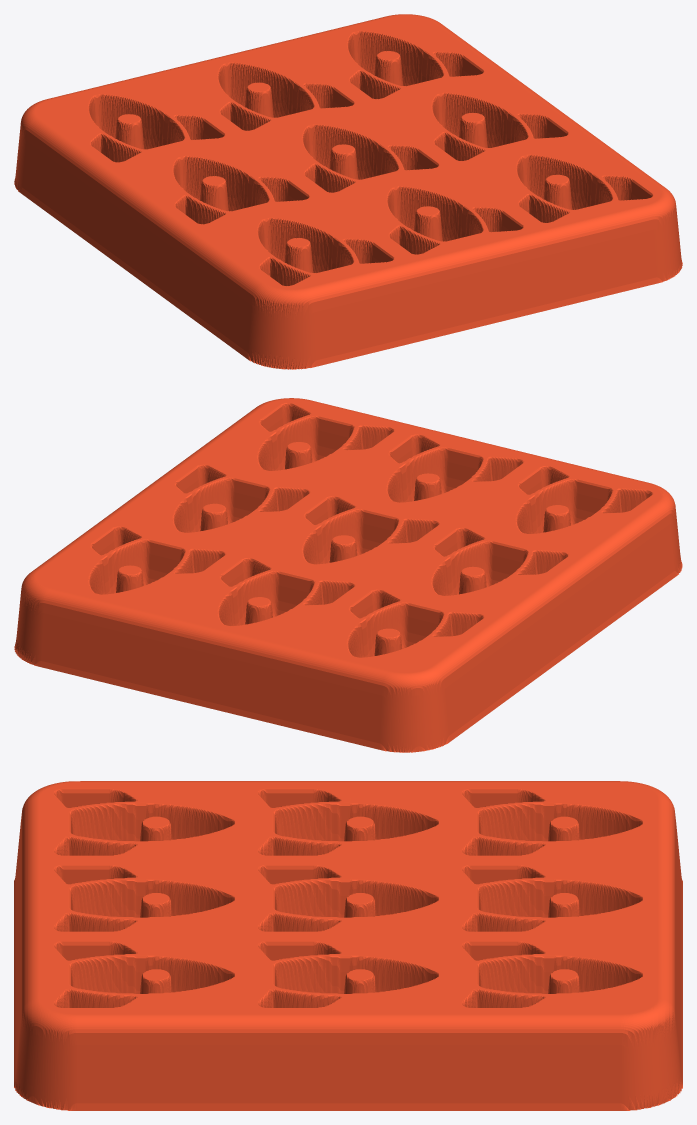
File: mold.glb
The picture shows the model from 3 angles, top to bottom: view 1: azimuth 30°, elevation 25°; view 2: azimuth 150°, elevation 25°; view 3: azimuth 270°, elevation 25°; orthographic projection. The views are drawn at different scales.
Visible parts, largest first — view 1: geometry_0; view 2: geometry_0; view 3: geometry_0.
Part boxes in pixels (x1,y1,x2,y2): geometry_0: (14, 14, 682, 369); geometry_0: (14, 398, 682, 752); geometry_0: (14, 781, 682, 1110).
Size of the model in its own units: 0.0862 by 0.0136 by 0.0964.
